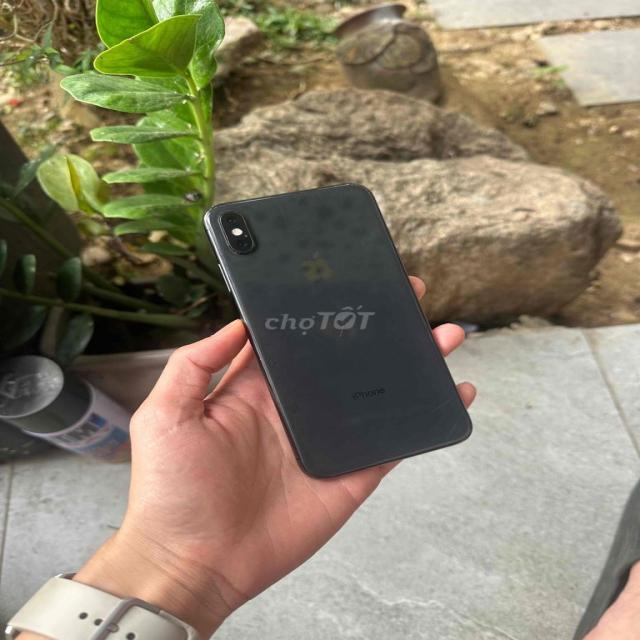scratch: (406, 381, 482, 448), (333, 312, 371, 354), (288, 188, 314, 207)
